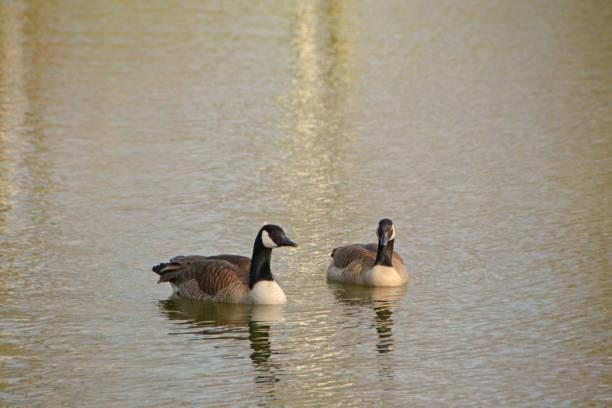Canadian-Goose: (154, 222, 296, 301), (327, 218, 410, 286)
